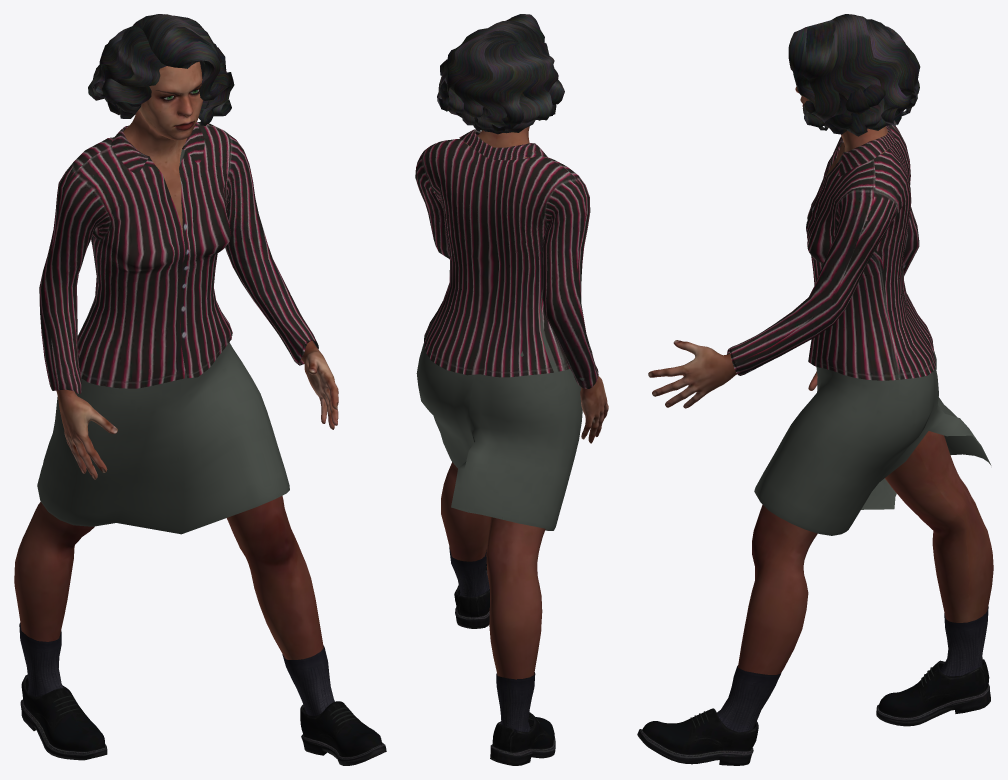
File: donna-03.glb
3 views of the same model, side by side, from view 1: azimuth 30°, elevation 25°; view 2: azimuth 150°, elevation 25°; view 3: azimuth 270°, elevation 25° (orthographic). The views are drawn at different scales.
Parts seen in each view (by area): view 1: Human.female_elegantsuit01, Human, Human.shoes03, Human.elvs_wavy_bob; view 2: Human.female_elegantsuit01, Human, Human.elvs_wavy_bob, Human.shoes03; view 3: Human.female_elegantsuit01, Human, Human.shoes03, Human.elvs_wavy_bob.
Boxes of the visible parts, bbox=[...] form: Human.female_elegantsuit01: bbox=[37, 121, 318, 534]; Human: bbox=[14, 61, 338, 659]; Human.shoes03: bbox=[19, 623, 386, 765]; Human.elvs_wavy_bob: bbox=[88, 14, 234, 125]; Human.female_elegantsuit01: bbox=[415, 129, 598, 530]; Human: bbox=[441, 126, 608, 679]; Human.elvs_wavy_bob: bbox=[437, 14, 564, 134]; Human.shoes03: bbox=[449, 547, 555, 765]; Human.female_elegantsuit01: bbox=[727, 125, 991, 535]; Human: bbox=[648, 86, 993, 674]; Human.shoes03: bbox=[637, 606, 990, 765]; Human.elvs_wavy_bob: bbox=[788, 14, 920, 136].
Bounding box in the file's own units: 0.524 × 1.6 × 0.7119.
12 materials, 12 textured.
